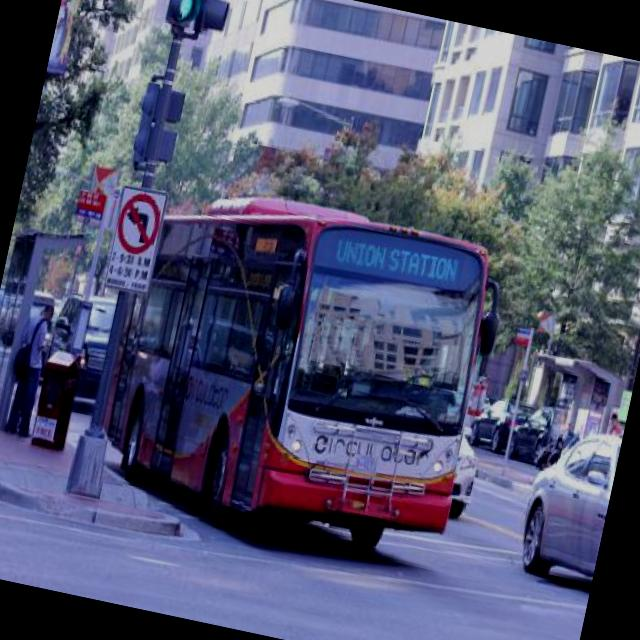Person: (3, 299, 62, 442), (607, 412, 625, 438)
